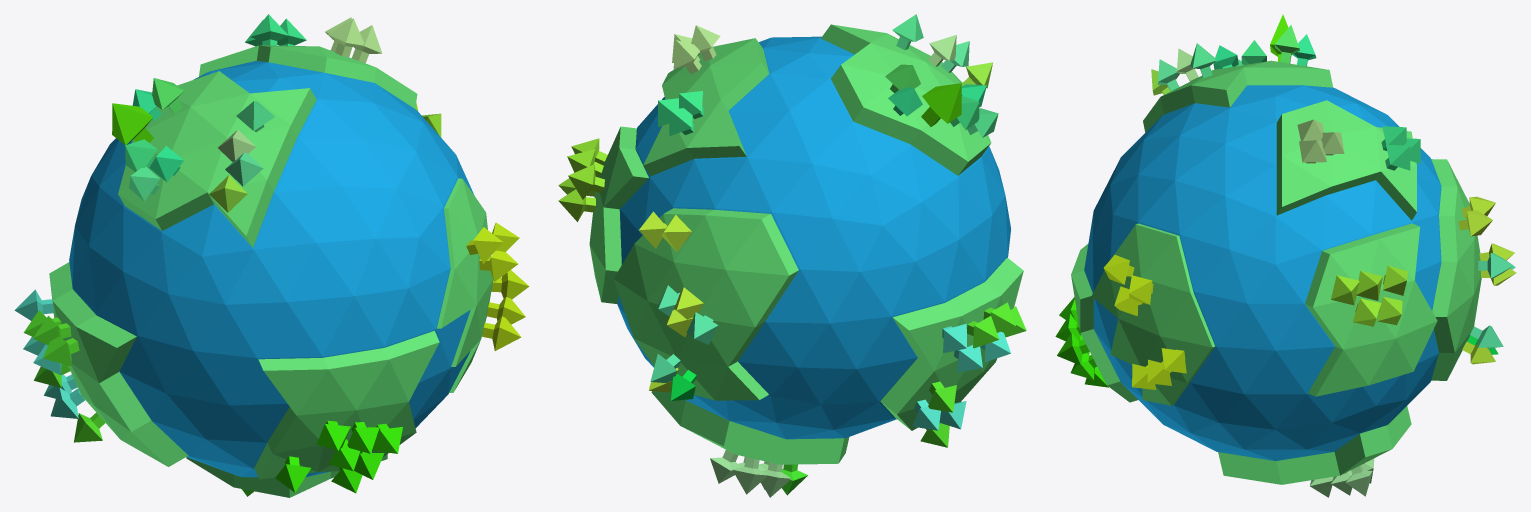
Rendered from animate_earth.glb.
The picture shows the model from 3 angles, left to right: view 1: azimuth 30°, elevation 25°; view 2: azimuth 150°, elevation 25°; view 3: azimuth 270°, elevation 25°; orthographic projection. The views are drawn at different scales.
Parts seen in each view (by area): view 1: Icosphere.001_1, Icosphere_0, Plane.052_20, Plane.040_19, Plane.012_11, Plane.014_12, Plane.030_16, Plane.009_10, Plane.002_3, Plane.033_17, Plane.003_4, Plane.004_5 (+4 smaller); view 2: Icosphere.001_1, Icosphere_0, Plane.014_12, Plane.012_11, Plane.035_18, Plane.020_13, Plane.057_22, Plane.022_14, Plane.033_17, Plane.030_16, Plane.002_3, Plane.009_10 (+6 smaller); view 3: Icosphere.001_1, Icosphere_0, Plane.040_19, Plane.035_18, Plane.020_13, Plane.052_20, Plane.030_16, Plane.033_17, Plane.057_22, Plane.022_14, Plane.003_4, Plane.009_10.
Part boxes in pixels (x1,y1,x2,y2): Icosphere.001_1: (69, 61, 474, 477); Icosphere_0: (49, 45, 493, 497); Plane.052_20: (275, 420, 402, 493); Plane.040_19: (466, 222, 529, 350); Plane.012_11: (23, 310, 105, 442); Plane.014_12: (14, 289, 84, 418); Plane.030_16: (325, 17, 382, 63); Plane.009_10: (129, 101, 274, 201); Plane.002_3: (112, 103, 153, 145); Plane.033_17: (245, 14, 306, 46); Plane.003_4: (152, 78, 184, 113); Plane.004_5: (125, 139, 157, 171); Icosphere.001_1: (617, 36, 1010, 439); Icosphere_0: (589, 24, 1023, 464); Plane.014_12: (912, 323, 1010, 430); Plane.012_11: (920, 302, 1026, 447); Plane.035_18: (558, 138, 607, 221); Plane.020_13: (639, 211, 703, 392); Plane.057_22: (710, 450, 790, 497); Plane.022_14: (650, 285, 718, 382); Plane.033_17: (658, 91, 703, 136); Plane.030_16: (672, 25, 720, 74); Plane.002_3: (921, 83, 961, 126); Plane.009_10: (892, 14, 998, 137); Icosphere.001_1: (1084, 85, 1441, 460); Icosphere_0: (1071, 60, 1481, 484); Plane.040_19: (1103, 255, 1186, 389); Plane.035_18: (1331, 265, 1407, 326); Plane.020_13: (1458, 196, 1516, 364); Plane.052_20: (1055, 297, 1108, 387); Plane.030_16: (1297, 119, 1344, 163); Plane.033_17: (1381, 126, 1420, 170); Plane.057_22: (1310, 458, 1374, 497); Plane.022_14: (1470, 253, 1515, 348); Plane.003_4: (1274, 25, 1299, 63); Plane.009_10: (1190, 43, 1243, 77).
Bounding box in the file's own units: 6.83 × 6.94 × 6.91.
